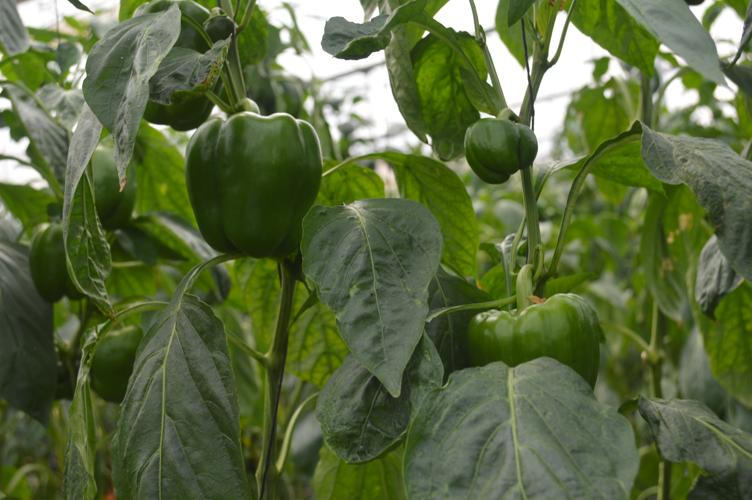BellPepper: (181, 113, 323, 265), (467, 294, 601, 391), (127, 2, 220, 129), (26, 225, 98, 301), (462, 119, 535, 188), (82, 142, 139, 226), (81, 326, 140, 401)
